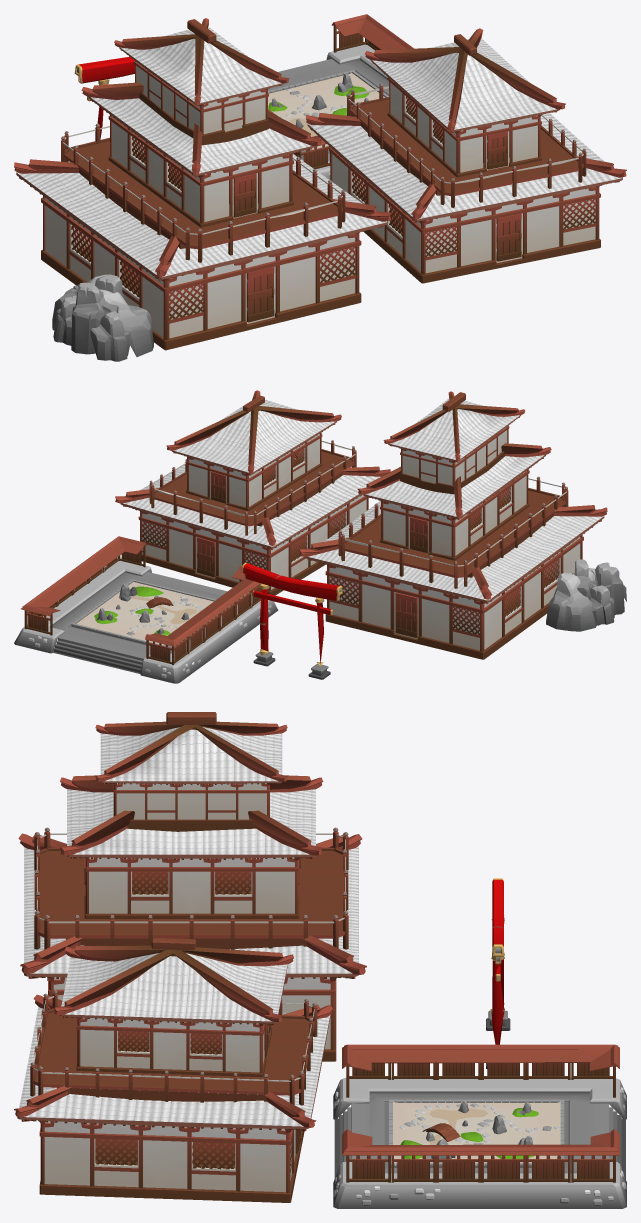
The model's file is lowpoly-asian-village.glb.
3 renders of one model, top to bottom at view 1: azimuth 30°, elevation 25°; view 2: azimuth 150°, elevation 25°; view 3: azimuth 270°, elevation 25°, orthographic. The views are drawn at different scales.
Visible parts, largest first — view 1: Door2, Roof; view 2: Door2, Roof; view 3: Door2, Roof.
Boxes of the visible parts, x1,y1,x2,y2 form: Door2: (14,14,626,361); Roof: (16,26,622,277); Door2: (14,390,626,683); Roof: (123,398,603,600); Door2: (14,712,626,1208); Roof: (19,727,358,1126).
Size of the model in its own units: 40.25 by 18 by 34.14.
3 materials, 2 textured.
